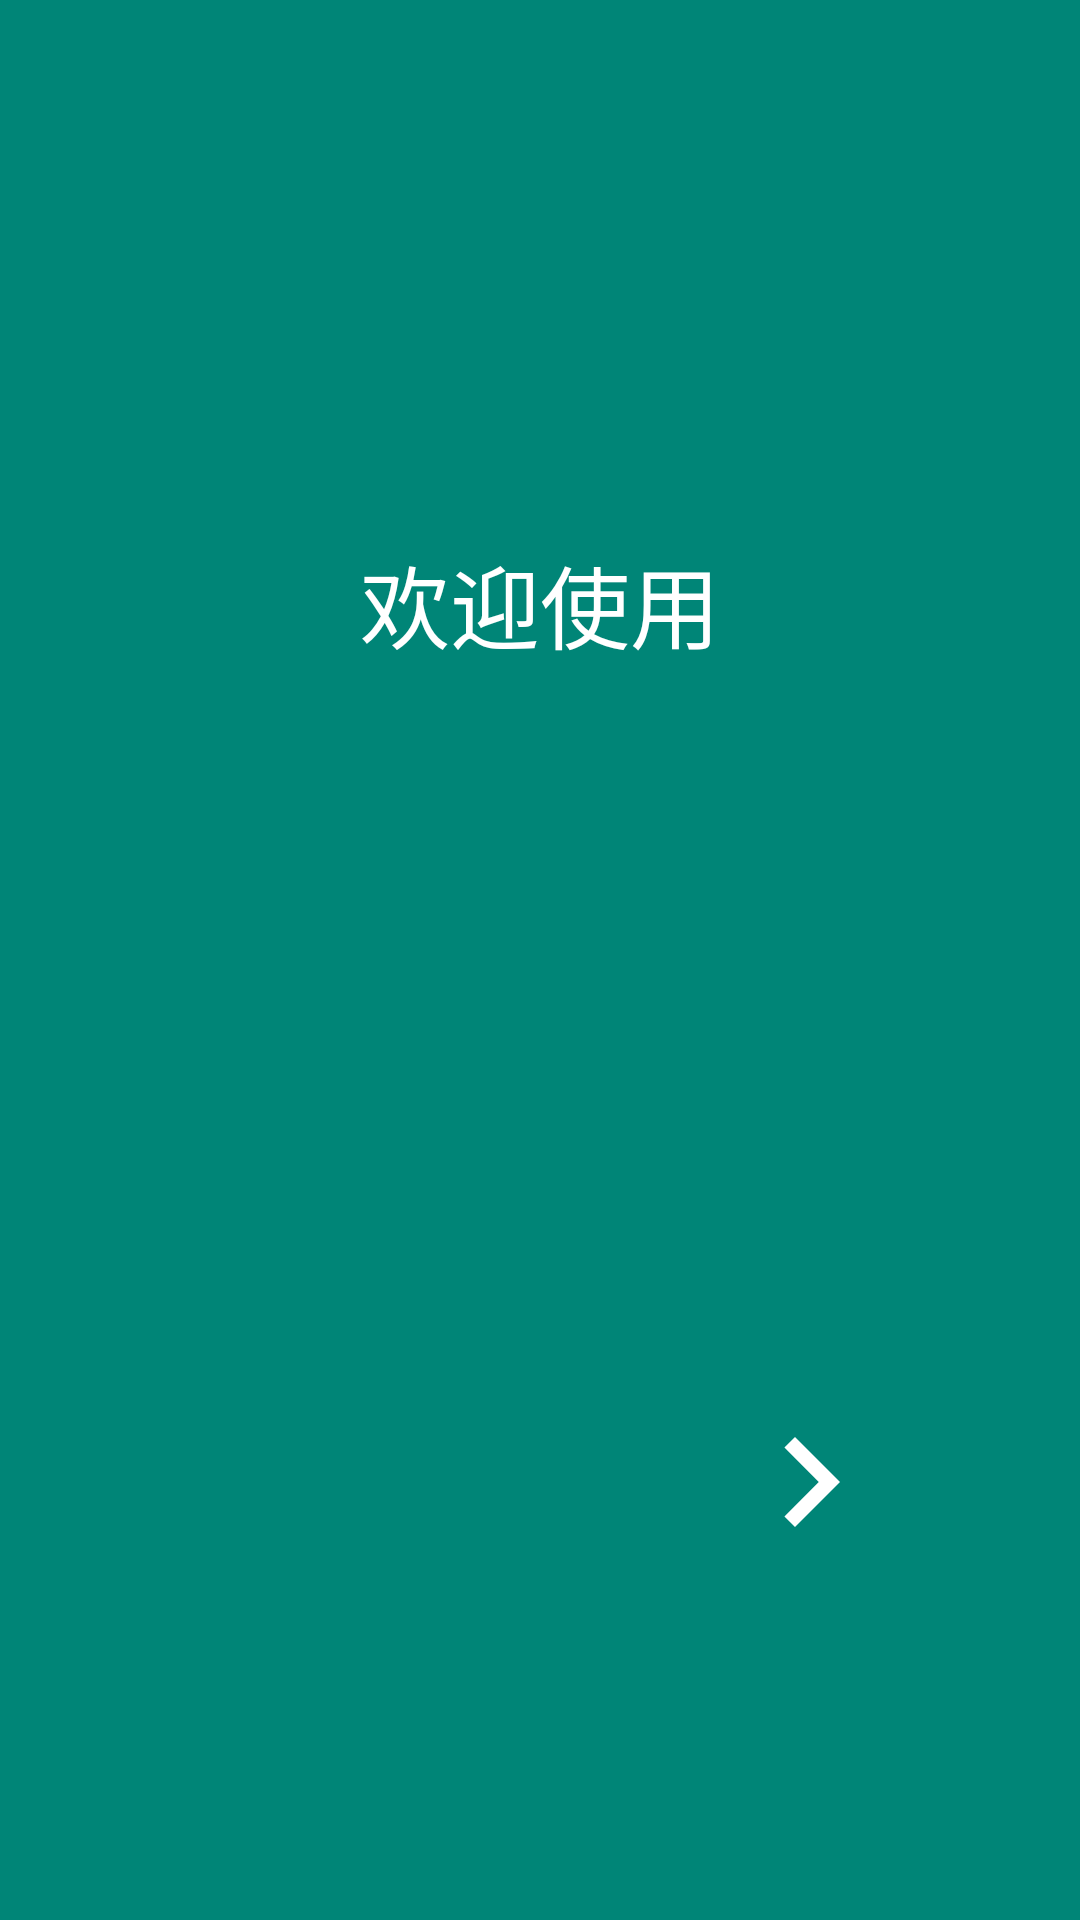

Point at icon controls on the screen. Image size 1080px×1920px, points as [x,y].
next step: [812,1482]
